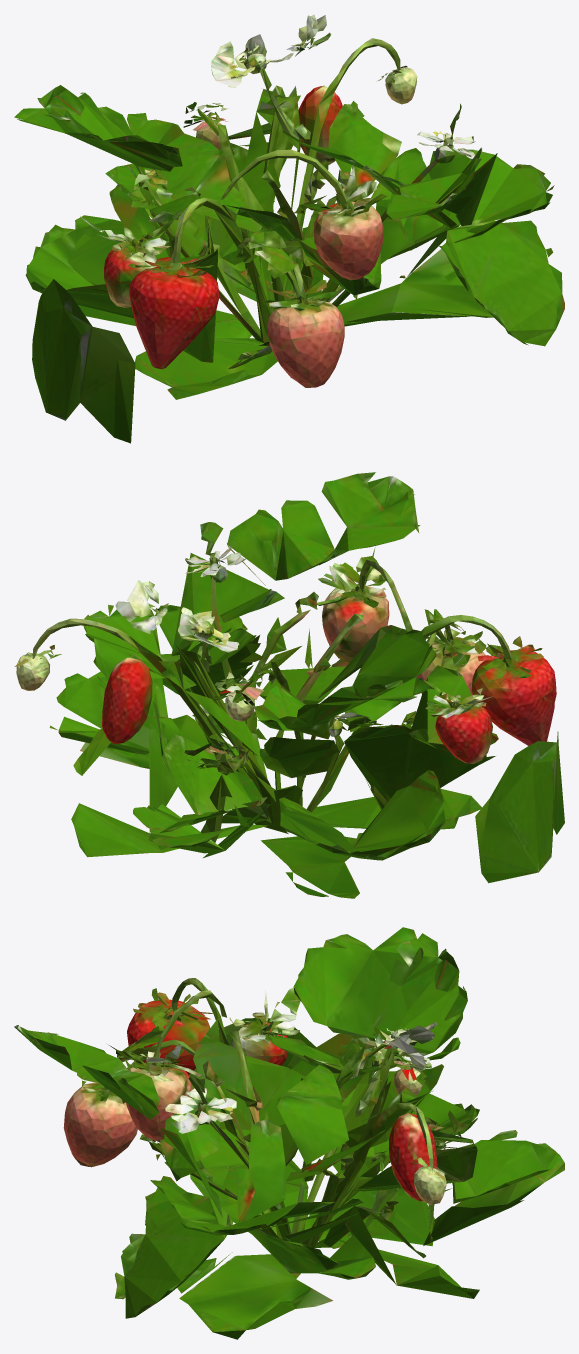
File: strawberry_1.glb
3 views of the same model, one above another, from view 1: azimuth 30°, elevation 25°; view 2: azimuth 150°, elevation 25°; view 3: azimuth 270°, elevation 25° (orthographic). The views are drawn at different scales.
Parts seen in each view (by area): view 1: world; view 2: world; view 3: world.
Part boxes in pixels (x1,y1,x2,y2): world: [14, 14, 564, 443]; world: [14, 472, 564, 898]; world: [14, 927, 564, 1339].
Size of the model in its own units: 1.75 by 0.9492 by 1.77.
Materials: 1 (1 with a texture image).
